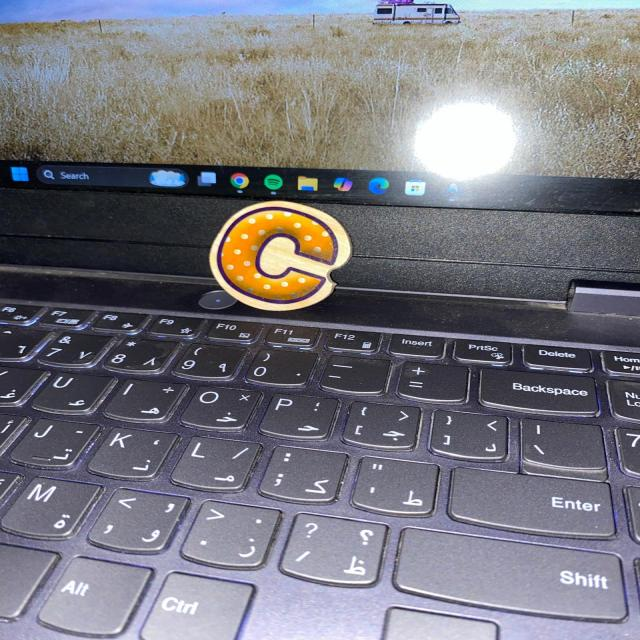C: (209, 201, 350, 310)
